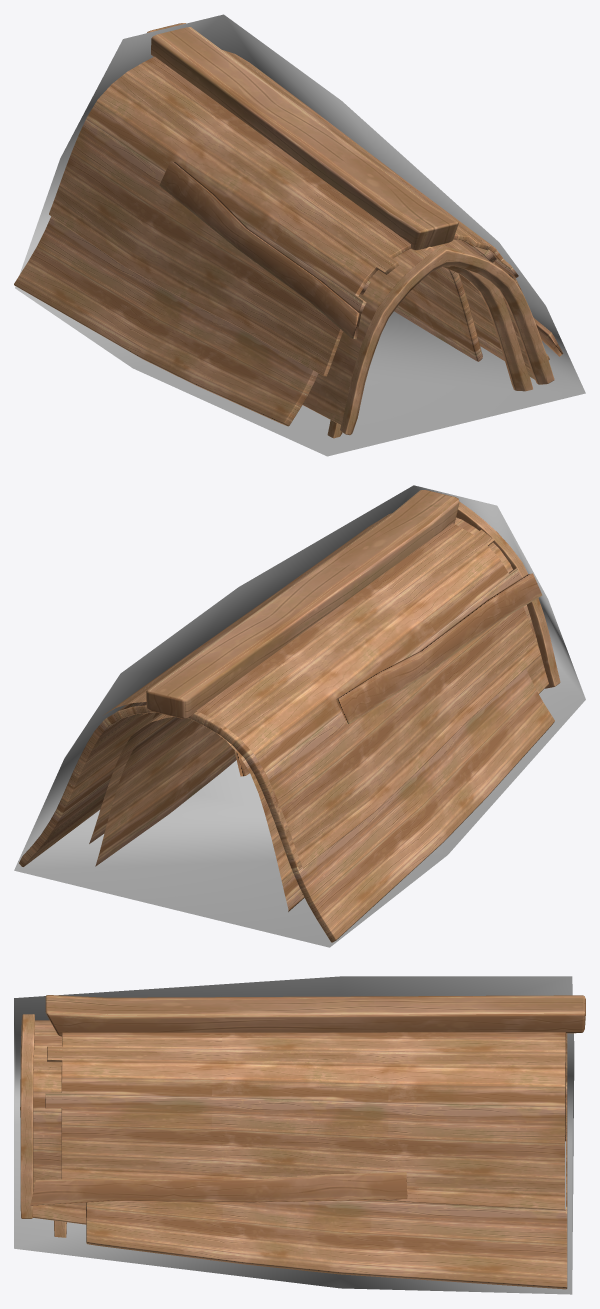
File: SM_Roof_B.gltf
The picture shows the model from 3 angles, top to bottom: view 1: azimuth 30°, elevation 25°; view 2: azimuth 150°, elevation 25°; view 3: azimuth 270°, elevation 25°; orthographic projection.
Parts seen in each view (by area): view 1: SM_Roof_B_LOD0, SM_Roof_B_ConvexHulls; view 2: SM_Roof_B_LOD0, SM_Roof_B_ConvexHulls; view 3: SM_Roof_B_LOD0, SM_Roof_B_ConvexHulls.
Part boxes in pixels (<box>): SM_Roof_B_LOD0: <box>14,23,563,438</box>; SM_Roof_B_ConvexHulls: <box>15,14,585,456</box>; SM_Roof_B_LOD0: <box>19,490,560,942</box>; SM_Roof_B_ConvexHulls: <box>14,485,585,947</box>; SM_Roof_B_LOD0: <box>20,995,585,1289</box>; SM_Roof_B_ConvexHulls: <box>14,976,574,1294</box>.
Size of what is drawn, in the model's own units: 10.25 by 6.83 by 16.19.
Materials: 3 (2 with a texture image).
